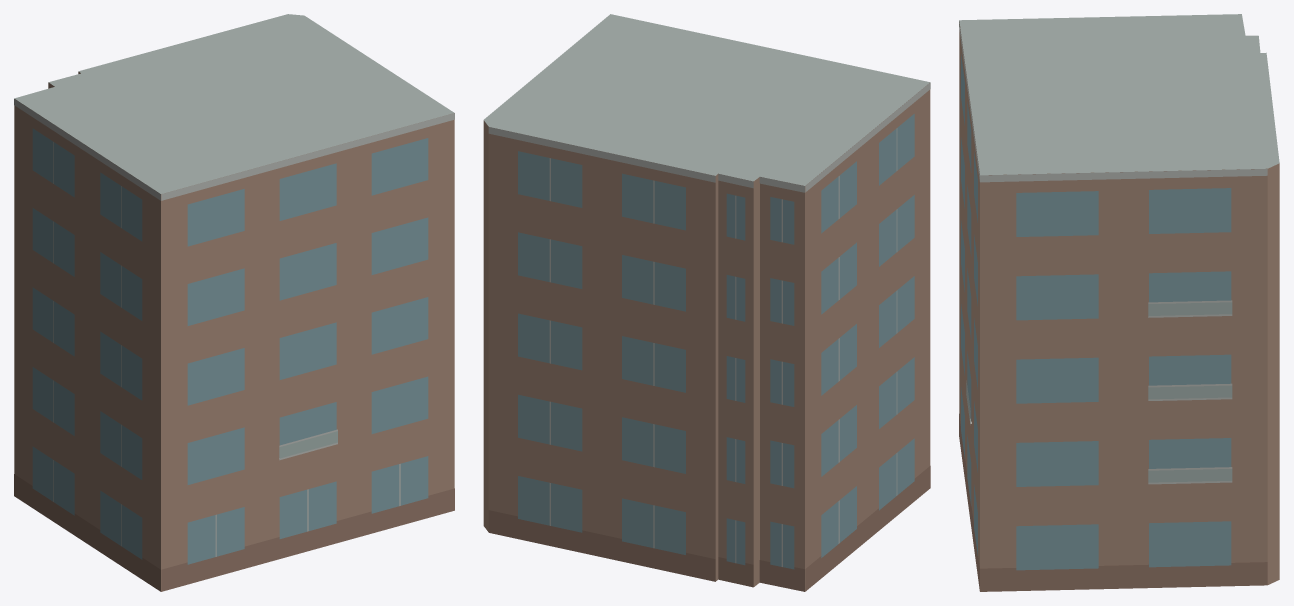
Rendered from survey-upis-32657467.glb.
The picture shows the model from 3 angles, left to right: view 1: azimuth 30°, elevation 25°; view 2: azimuth 150°, elevation 25°; view 3: azimuth 270°, elevation 25°; orthographic projection. The views are drawn at different scales.
Visible parts, largest first — view 1: survey-upis-32657467.tmp; view 2: survey-upis-32657467.tmp; view 3: survey-upis-32657467.tmp.
Boxes of the visible parts, left/top/right/bottom form: survey-upis-32657467.tmp: left=14, top=14, right=454, bottom=591; survey-upis-32657467.tmp: left=483, top=14, right=930, bottom=591; survey-upis-32657467.tmp: left=959, top=14, right=1279, bottom=591.
Size of the model in its own units: 11.97 by 14.4 by 10.05.
